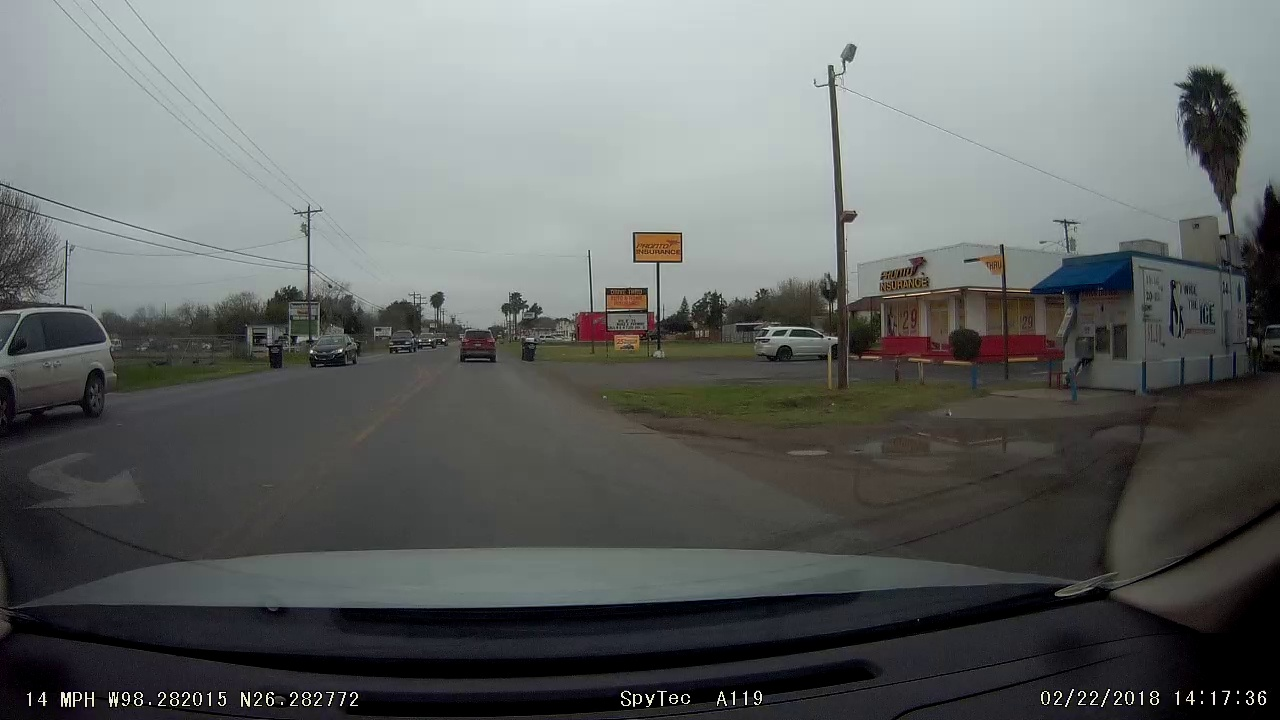blurredLine: (256, 420, 388, 522)
